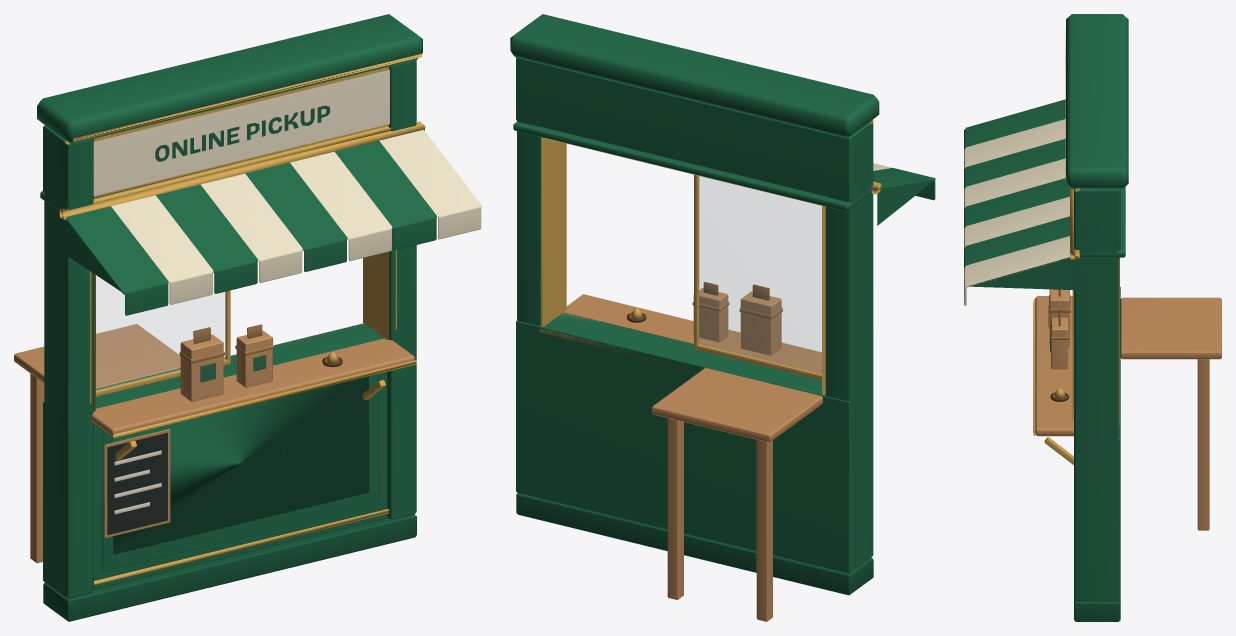
Rendered from pickup_window_tier2.glb.
The picture shows the model from 3 angles, left to right: view 1: azimuth 30°, elevation 25°; view 2: azimuth 150°, elevation 25°; view 3: azimuth 270°, elevation 25°; orthographic projection. The views are drawn at different scales.
Parts seen in each view (by area): view 1: KickInset, Cap, Pilaster-1, SignPanel, KickWall, Plinth, Pilaster1, Pane, Ledge, KickPanel, MenuCard, InnerShelf (+31 smaller); view 2: KickWall, SignBand, Pane, Cap, Pilaster-1, InnerShelf, Plinth, Ledge, Pilaster1, Bead0.75, Header, ShelfLeg-0.68 (+8 smaller); view 3: Pilaster1, Cap, KickWall, InnerShelf, Ledge, AwningStripe7, ShelfLeg-0.20, AwningStripe6, AwningStripe5, AwningStripe4, AwningStripe0, AwningStripe3 (+9 smaller).
Part boxes in pixels (<box>): KickInset: <box>113,376,369,554</box>; Cap: <box>37,14,422,143</box>; Pilaster-1: <box>44,129,93,598</box>; SignPanel: <box>93,70,389,195</box>; KickWall: <box>43,323,388,596</box>; Plinth: <box>43,514,416,621</box>; Pilaster1: <box>387,60,416,519</box>; Pane: <box>96,273,226,391</box>; Ledge: <box>91,324,414,436</box>; KickPanel: <box>102,374,378,571</box>; MenuCard: <box>107,432,167,534</box>; InnerShelf: <box>14,324,180,388</box>; KickWall: <box>516,312,870,573</box>; SignBand: <box>516,58,870,202</box>; Pane: <box>698,176,821,374</box>; Cap: <box>510,14,879,138</box>; Pilaster-1: <box>825,122,873,557</box>; InnerShelf: <box>652,368,822,442</box>; Plinth: <box>516,493,873,595</box>; Ledge: <box>539,294,821,391</box>; Pilaster1: <box>517,121,541,325</box>; Bead0.75: <box>541,137,566,326</box>; Header: <box>513,121,871,211</box>; ShelfLeg-0.68: <box>756,440,772,621</box>; Pilaster1: <box>1074,189,1119,601</box>; Cap: <box>1066,14,1128,189</box>; KickWall: <box>1081,287,1120,601</box>; InnerShelf: <box>1120,297,1221,359</box>; Ledge: <box>1035,296,1073,436</box>; AwningStripe7: <box>965,236,1070,287</box>; ShelfLeg-0.20: <box>1197,359,1209,530</box>; AwningStripe6: <box>965,216,1069,265</box>; AwningStripe5: <box>965,196,1069,245</box>; AwningStripe4: <box>965,178,1069,225</box>; AwningStripe0: <box>965,99,1065,147</box>; AwningStripe3: <box>965,158,1065,206</box>.
Bounding box in the file's own units: 1.85 × 2.48 × 1.27.
